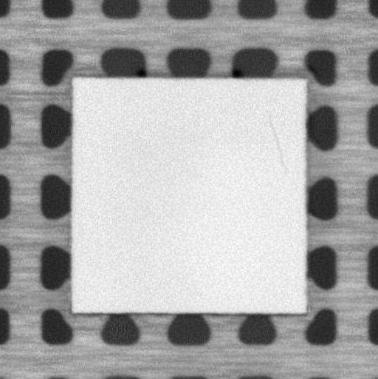DIE_CRACK: (266, 109, 289, 172)
